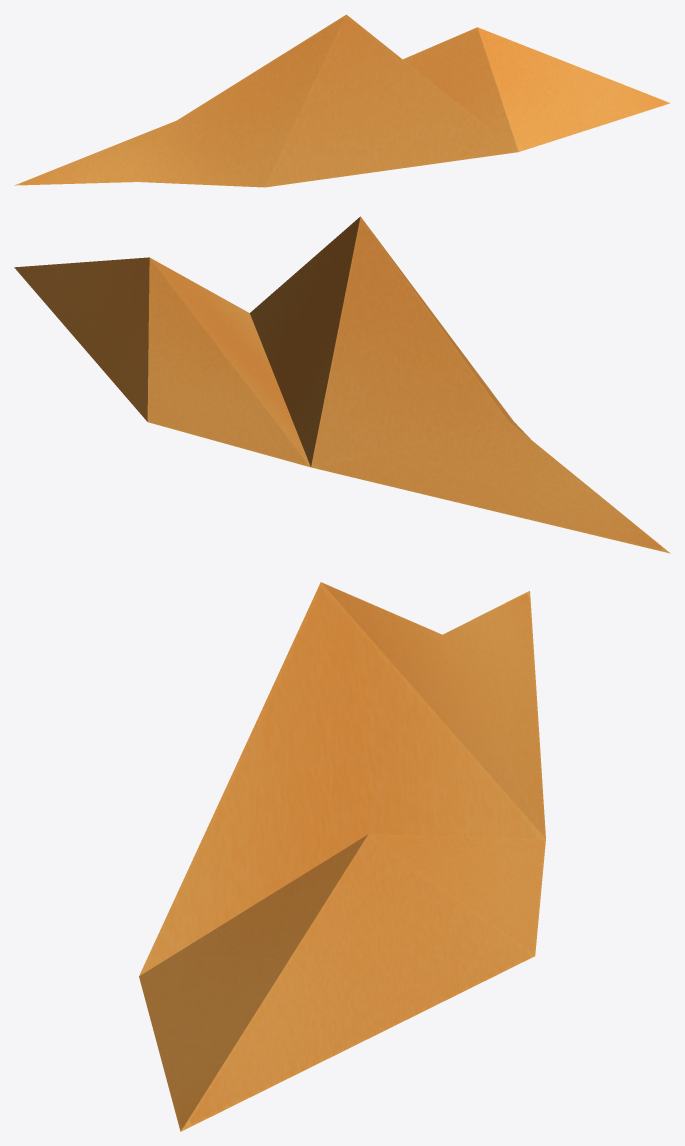
Rendered from CRASH-desert-sand dune1.fbx.
The picture shows the model from 3 angles, top to bottom: view 1: azimuth 30°, elevation 25°; view 2: azimuth 150°, elevation 25°; view 3: azimuth 270°, elevation 25°; orthographic projection. The views are drawn at different scales.
Visible parts, largest first — view 1: pPyramid2; view 2: pPyramid2; view 3: pPyramid2.
Boxes of the visible parts, bbox=[...] form: pPyramid2: bbox=[14, 14, 670, 187]; pPyramid2: bbox=[14, 216, 670, 553]; pPyramid2: bbox=[139, 582, 545, 1131].
Bounding box in the file's own units: 20.62 × 4.88 × 6.38.
Materials: 1 (1 with a texture image).
